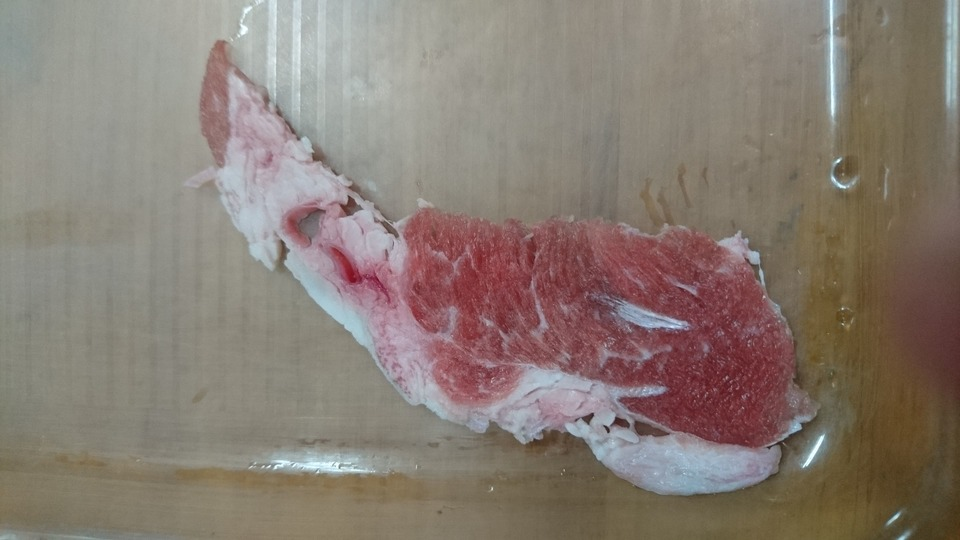restructured meat: (189, 38, 818, 498)
